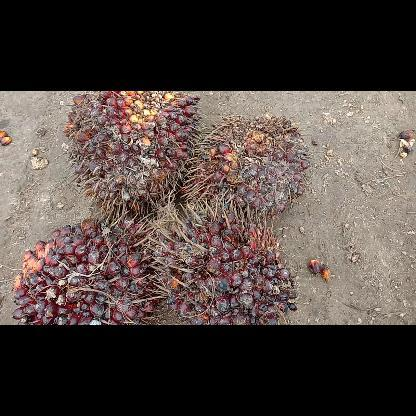TBS masak: (148, 192, 298, 324), (63, 90, 200, 218), (11, 214, 160, 324), (182, 115, 312, 214)
